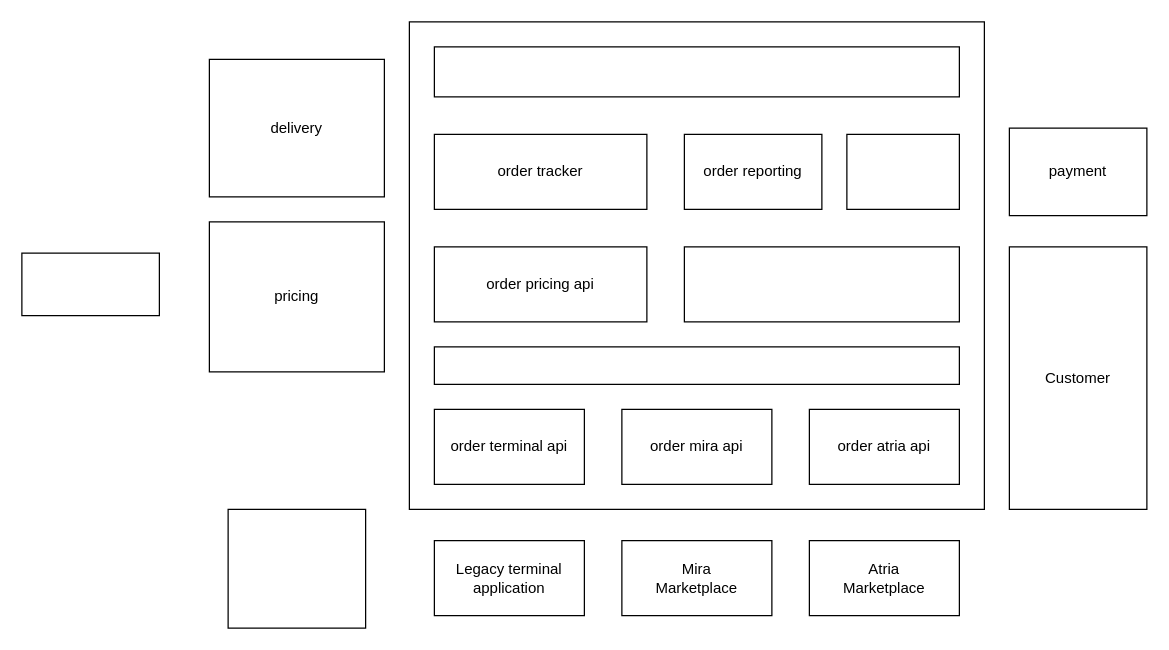
Image size: 1169x650. Some labels were removed from this diagram. Each missing label, with the box of its shape:
discount: (21, 252, 159, 316)
order management: (683, 246, 959, 322)
order payment: (846, 133, 959, 209)
order proxy api: (433, 346, 959, 384)
order ui: (433, 46, 959, 97)
provider: (227, 508, 366, 628)
